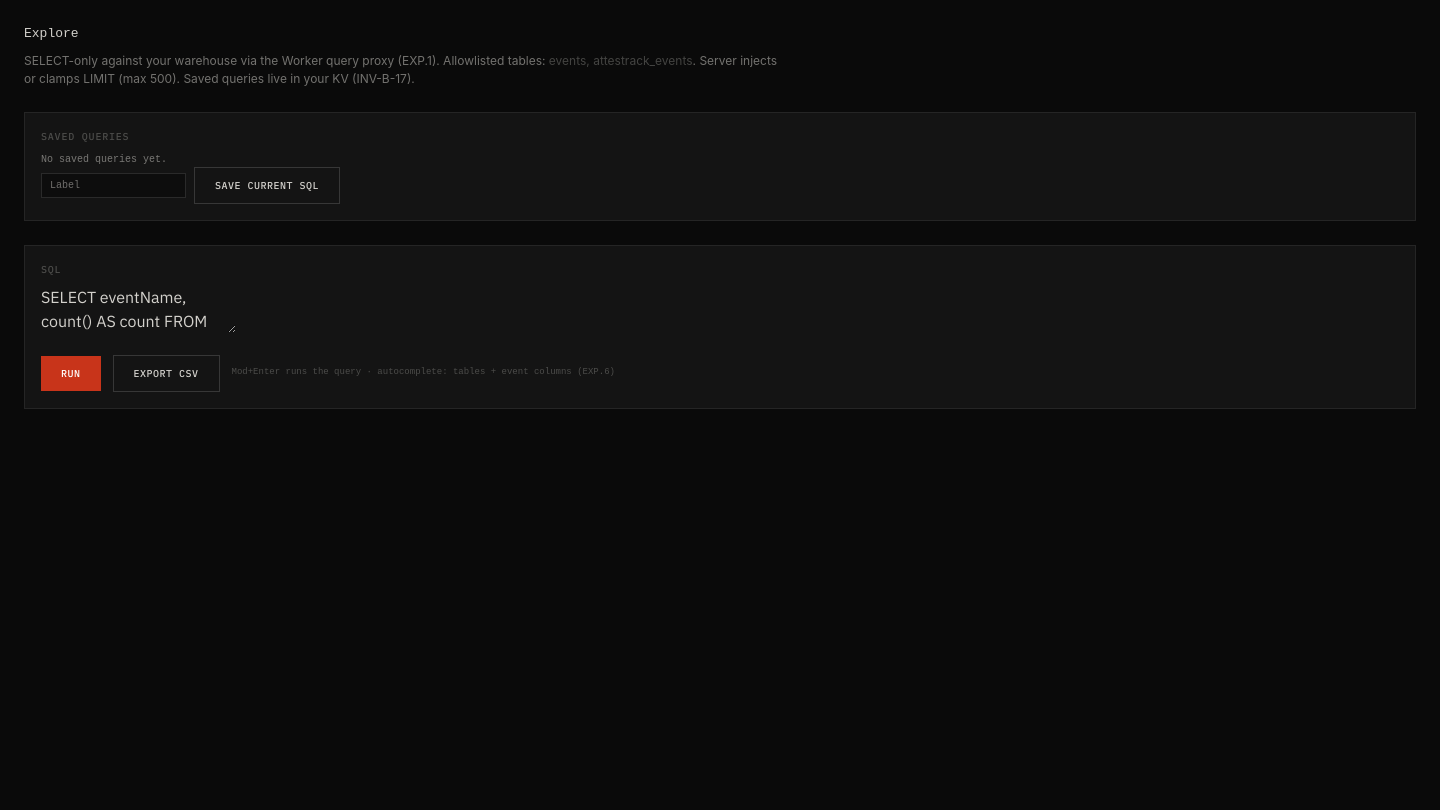
Test: Explore page (EXP.5/EXP.8/EXP.13 surfaces) › EXP.5 — a truncated result shows the 500-row server-limit notice; EXP.8 — table stays the default view
Click the button "Run".
click(71, 373)  # box [41,356,100,390]
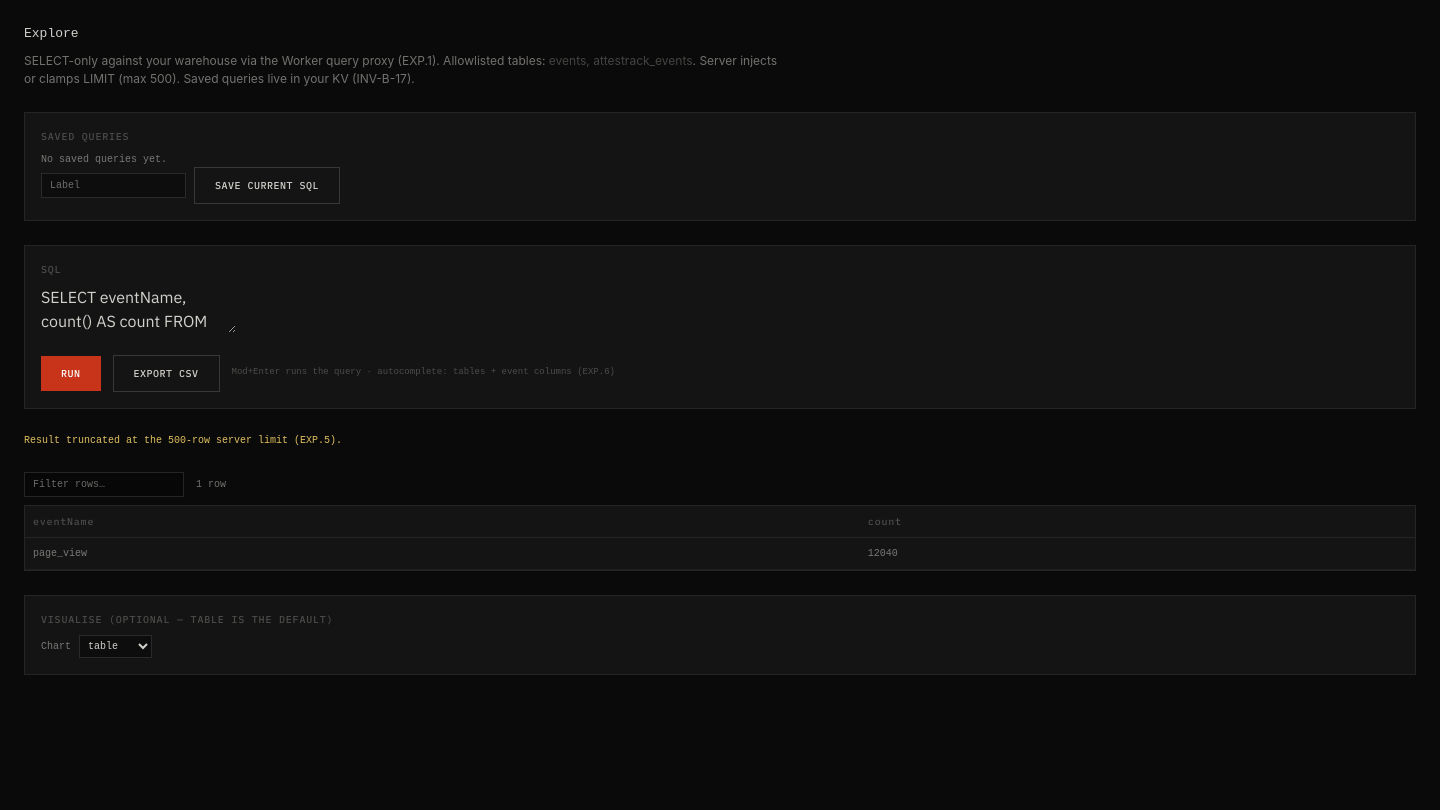
Check: the text "Result truncated at the 500-row server limit (EXP.5)." is shown, box [24,434,342,446]
Check: the text "page_view" is shown, box [25,537,860,569]
Check: the dropdown labelled "Chart" shows "table", box [79,634,152,658]
